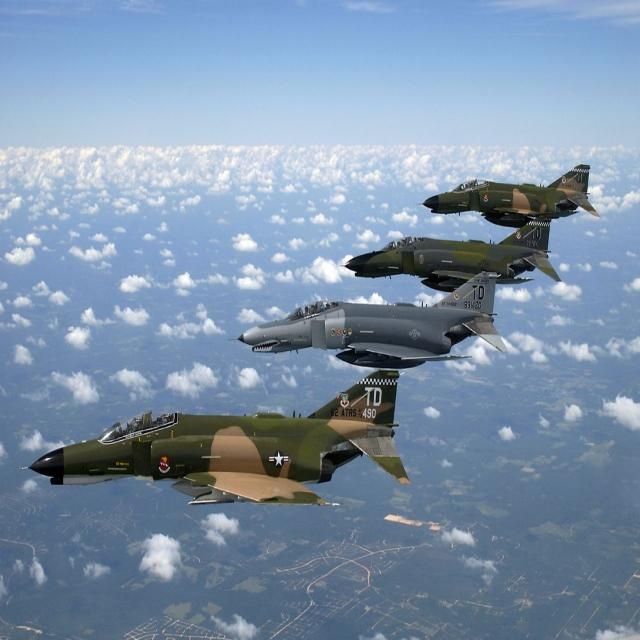MIL_Plane: (16, 369, 410, 506), (228, 271, 508, 370), (336, 217, 562, 294), (416, 164, 601, 229)
